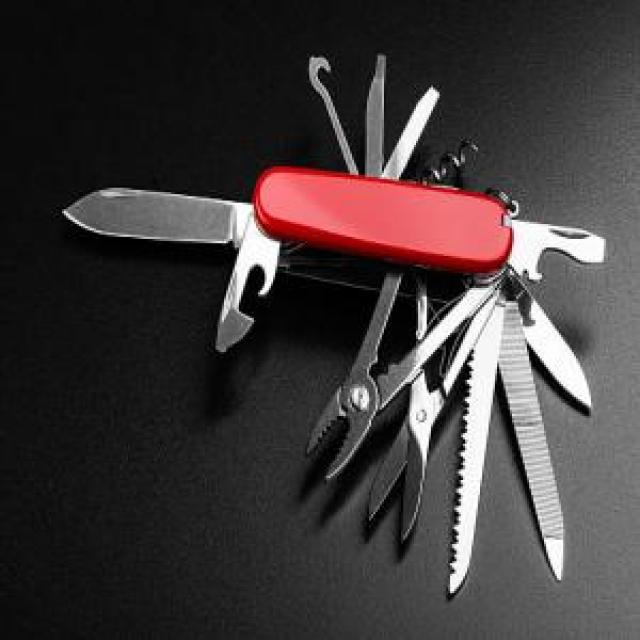knife: (499, 268, 573, 586), (62, 180, 332, 262)
